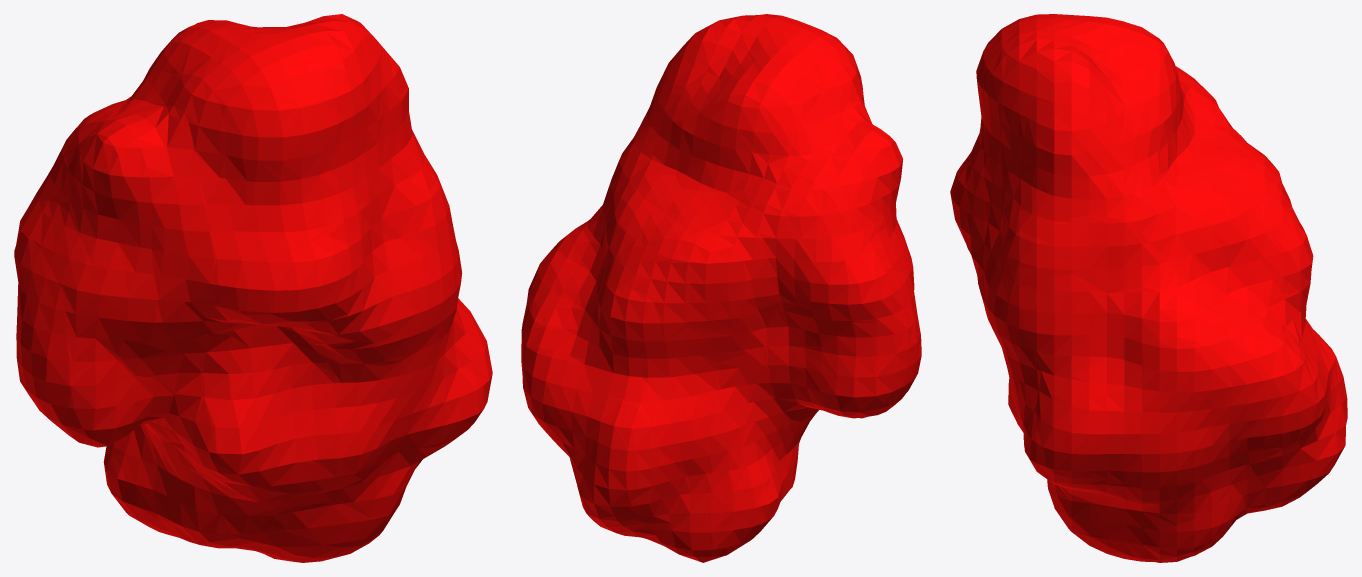
The model's file is gloB_coarse.dae.
3 views of the same model, side by side, from view 1: azimuth 30°, elevation 25°; view 2: azimuth 150°, elevation 25°; view 3: azimuth 270°, elevation 25° (orthographic). The views are drawn at different scales.
Parts seen in each view (by area): view 1: gloB; view 2: gloB; view 3: gloB.
Boxes of the visible parts, <box> form: gloB: <box>14,14,492,562</box>; gloB: <box>521,14,921,562</box>; gloB: <box>950,14,1347,562</box>.
Size of the model in its own units: 47.73 by 61.38 by 44.62.
